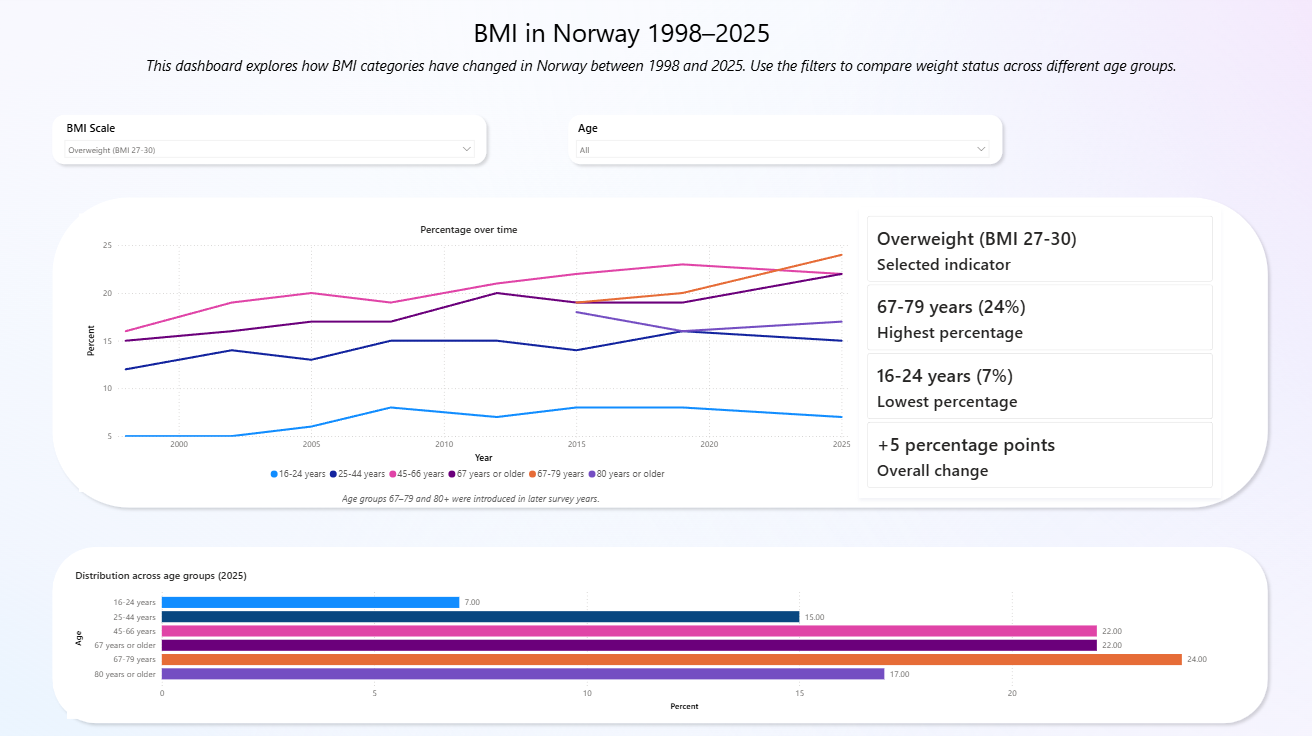

What the dashboard file says about the page in this screenshot:
{"tool":"powerbi","page":{"name":"BMI Dashboard","canvas":[1920,1080],"ordinal":1},"visuals":[{"type":"shape","box":[70,280,1787.5,470],"z":0},{"type":"shape","box":[70,160,650,90],"z":1000},{"type":"shape","box":[820,160,650,90],"z":2000},{"type":"shape","box":[70,787.5,1787.5,275],"z":3000},{"type":"textbox","box":[117.5,17.5,1580,60],"z":4000},{"type":"slicer","fields":{"Values":["06181.Lifestyle Habit"]},"box":[92.7,176.4,607.3,59.1],"z":5000},{"type":"slicer","fields":{"Values":["06181.Age"]},"box":[835.5,176.4,611.8,59.1],"z":6000},{"type":"lineChart","title":"Percentage over time","fields":{"Category":["06181.Year"],"Y":["Avg(06181.Percent)"],"Series":["06181.Age"]},"box":[117.5,312.5,1135,405],"z":7000},{"type":"textbox","box":[205,77.5,1520,50],"z":8000},{"type":"textbox","box":[495,712.5,410,37.5],"z":9000},{"type":"clusteredBarChart","title":"Distribution across age groups (2025)","fields":{"Category":["06181.Age"],"Y":["Avg(06181.Percent)"]},"box":[101.2,817.5,1678.8,231.2],"z":10000},{"type":"cardVisual","fields":{"Data":["06181.Selected Habit","06181.Highest Age Group","06181.Lowest Age Group","06181.Change Since 1998"]},"box":[1252.5,302.5,527.5,422.5],"z":11000}]}

Visuals, with their boxes in screenshot pixels (x1, y1, x2, y2), scaled from the page's 1920x1080 canvas onto the 1312x736 screenshot:
shape: (48, 191, 1269, 511)
shape: (48, 109, 492, 170)
shape: (560, 109, 1004, 170)
shape: (48, 537, 1269, 724)
textbox: (80, 12, 1160, 53)
slicer - 06181.Lifestyle Habit: (63, 120, 478, 160)
slicer - 06181.Age: (571, 120, 989, 160)
"Percentage over time" lineChart: (80, 213, 856, 489)
textbox: (140, 53, 1179, 87)
textbox: (338, 486, 618, 511)
"Distribution across age groups (2025)" clusteredBarChart: (69, 557, 1216, 715)
cardVisual - 06181.Selected Habit x 06181.Highest Age Group: (856, 206, 1216, 494)
